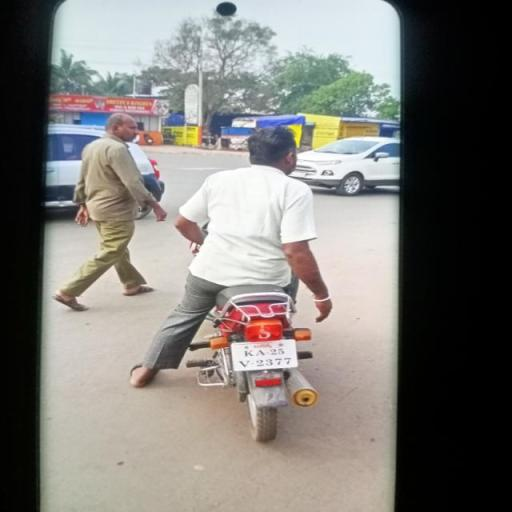bike: (132, 122, 348, 443)
numberplate: (227, 337, 298, 373)
withouthelmet: (248, 127, 296, 167)
